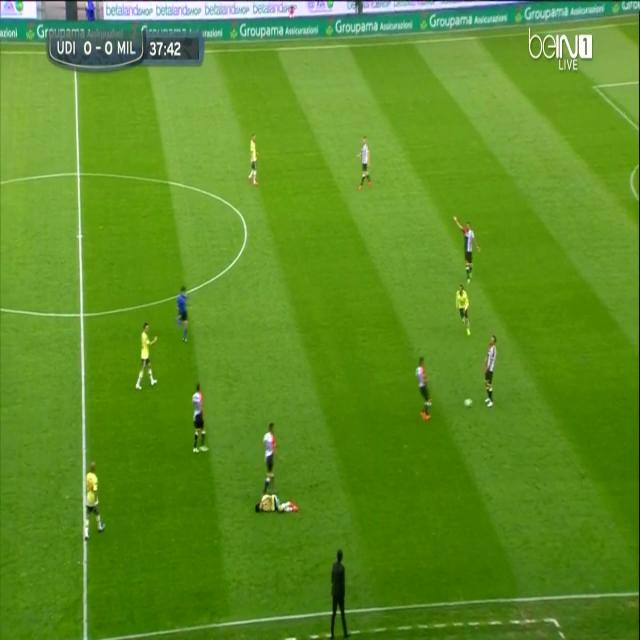Ball: (462, 392, 474, 412)
Player: (451, 213, 484, 287), (82, 456, 106, 548), (134, 320, 159, 394), (413, 355, 434, 427), (190, 381, 210, 456), (482, 332, 500, 415), (353, 130, 375, 197), (261, 420, 279, 497), (255, 491, 300, 518), (453, 283, 472, 339), (247, 128, 261, 192)
Referee: (174, 283, 192, 346)
